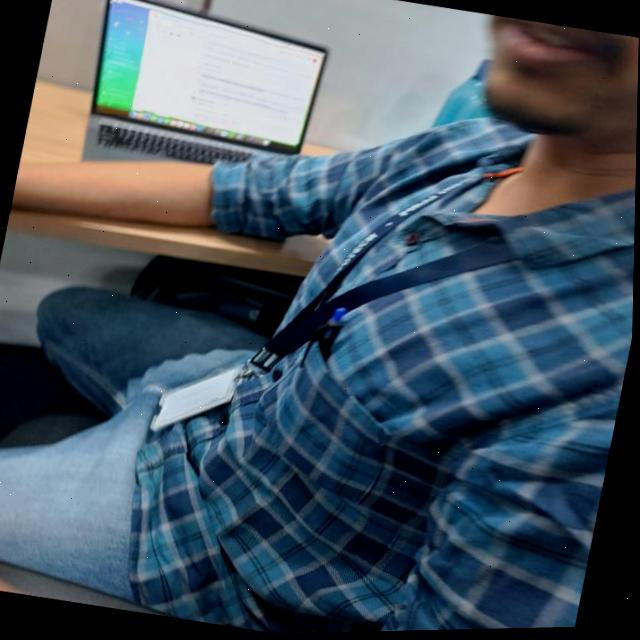id_card: (142, 0, 609, 548)
